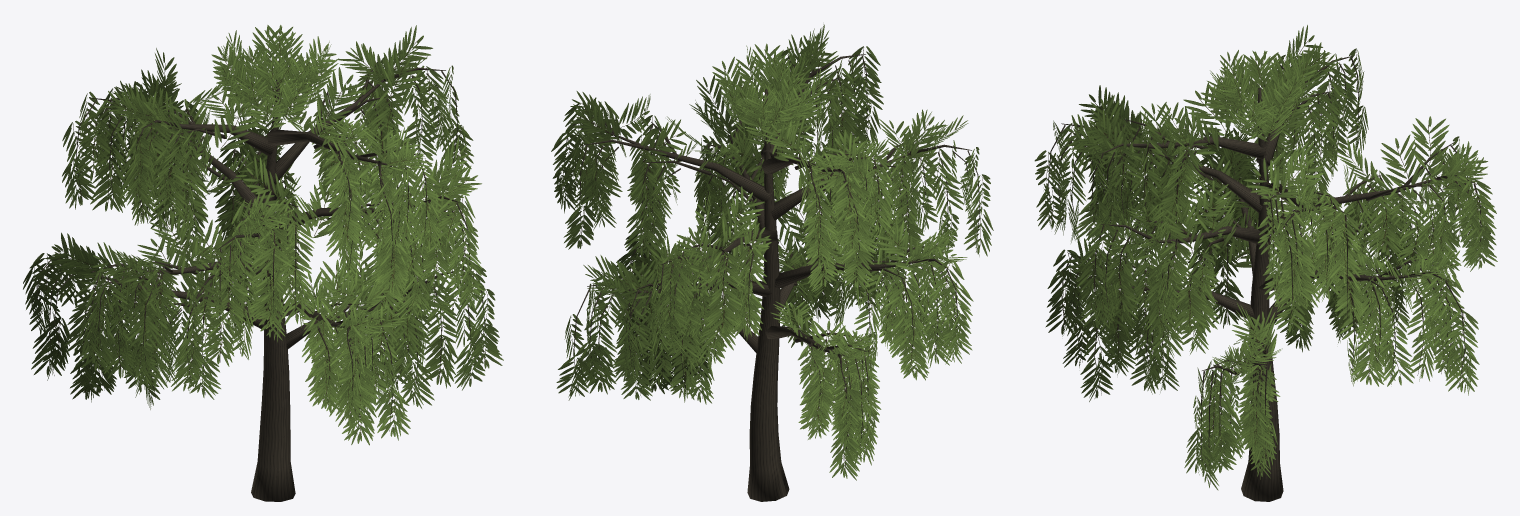
Rendered from willow.glb.
3 renders of one model, left to right at view 1: azimuth 30°, elevation 25°; view 2: azimuth 150°, elevation 25°; view 3: azimuth 270°, elevation 25°, orthographic. The views are drawn at different scales.
Visible parts, largest first — view 1: SM_willow_Foliage, SM_willow_BarkBranches; view 2: SM_willow_Foliage, SM_willow_BarkBranches; view 3: SM_willow_Foliage, SM_willow_BarkBranches.
Part boxes in pixels (x1=…): SM_willow_Foliage: x1=23, y1=25, x2=503, y2=445; SM_willow_BarkBranches: x1=36, y1=62, x2=484, y2=501; SM_willow_Foliage: x1=551, y1=24, x2=993, y2=480; SM_willow_BarkBranches: x1=564, y1=54, x2=980, y2=501; SM_willow_Foliage: x1=1034, y1=25, x2=1497, y2=490; SM_willow_BarkBranches: x1=1048, y1=55, x2=1481, y2=501.
Size of the model in its own units: 7.11 by 7.31 by 7.12.
Materials: 2 (2 with a texture image).
